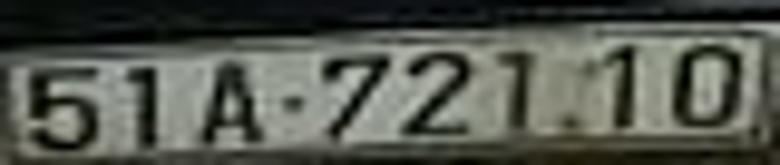-: (281, 94, 305, 111)
.: (561, 119, 577, 130)
0: (676, 46, 743, 127)
1: (495, 50, 531, 128), (131, 67, 157, 146), (609, 44, 632, 127)
2: (406, 53, 469, 133)
5: (31, 67, 98, 150)
7: (326, 57, 388, 142)
A: (201, 62, 264, 143)
